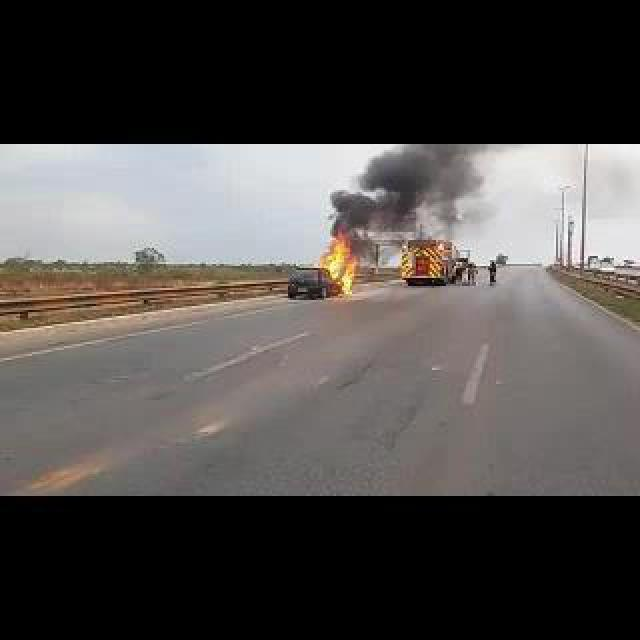fire: (325, 147, 488, 242)
smoke: (314, 234, 358, 296)
